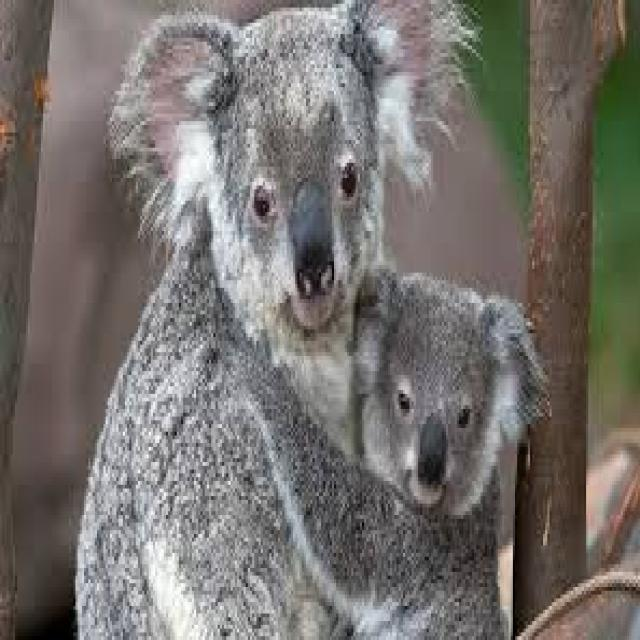Koala: (62, 0, 480, 636), (212, 262, 546, 640)
